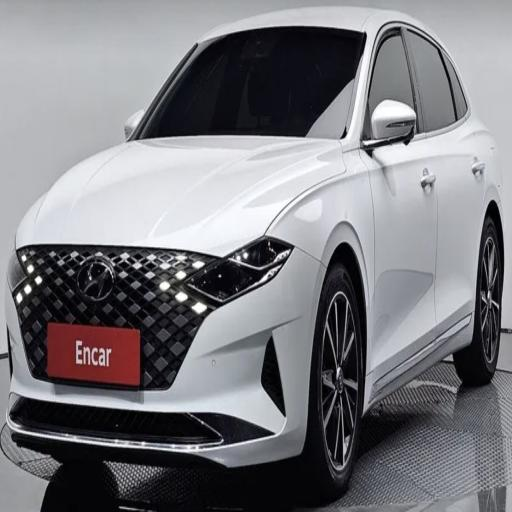normal: (18, 17, 510, 480)
